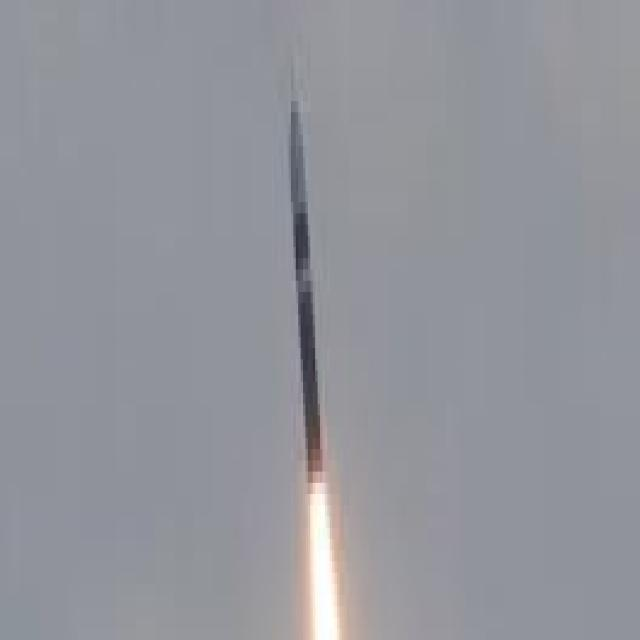missile: (285, 88, 338, 483)
